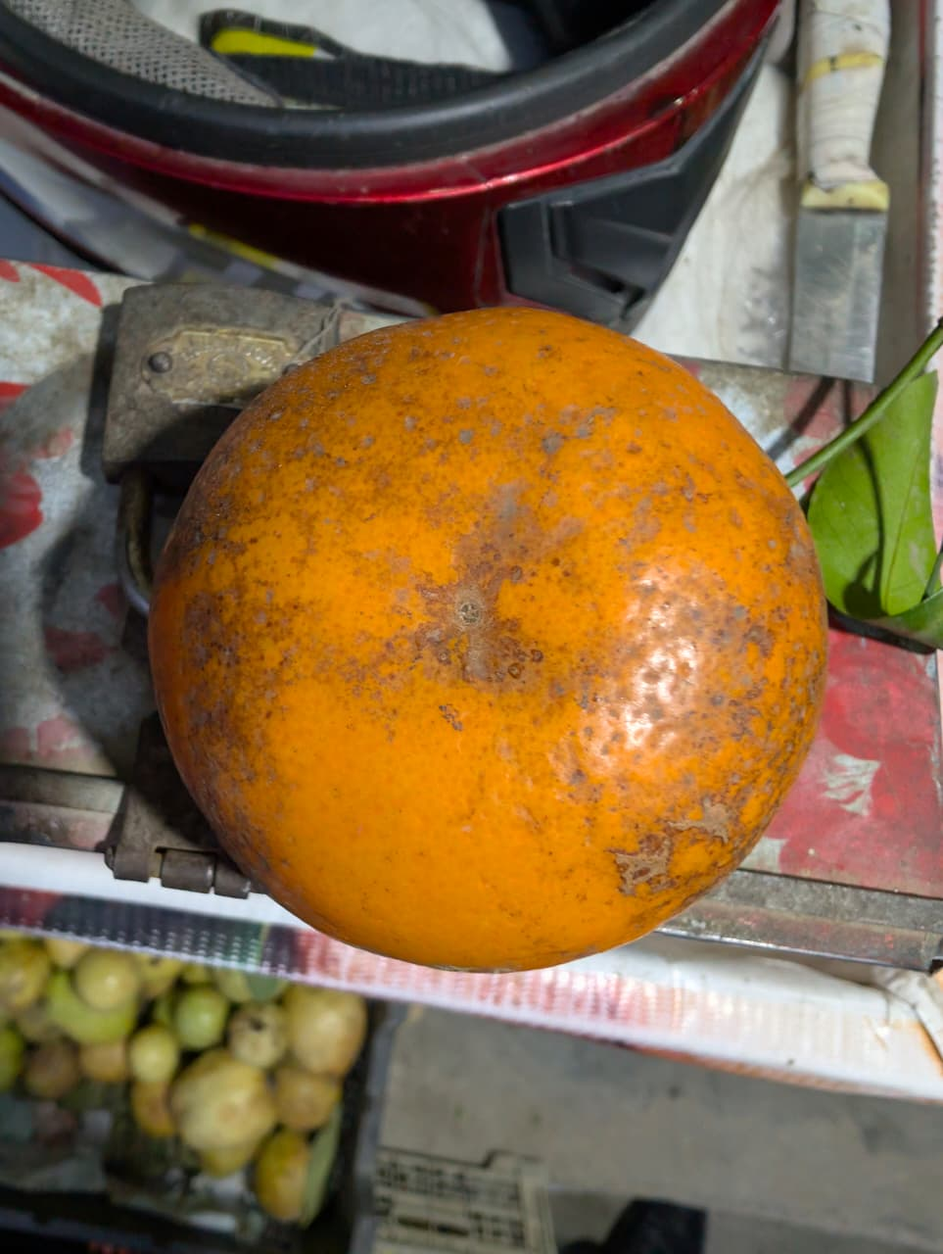orange: (79, 224, 756, 981)
